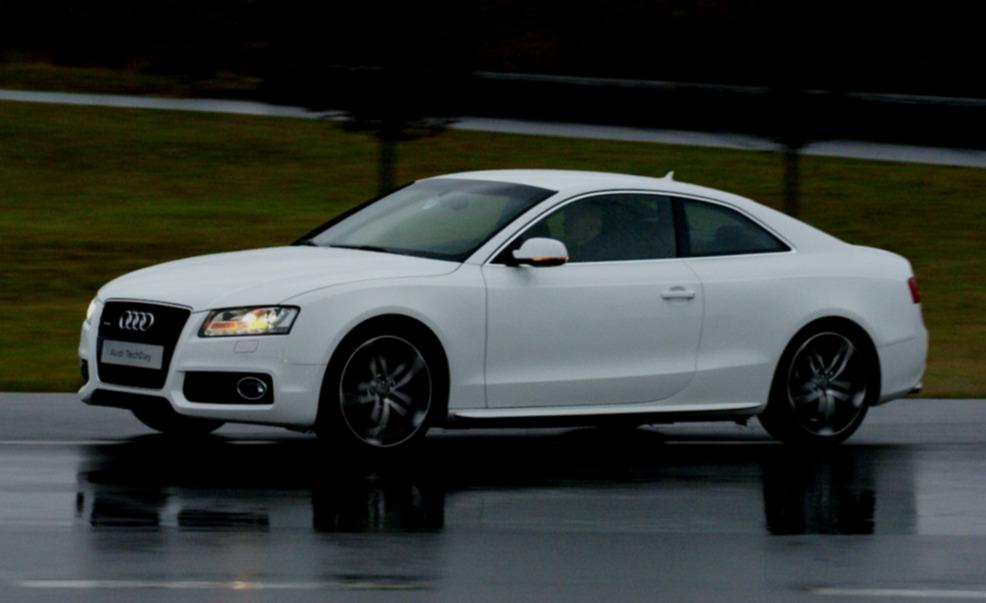Audi: (113, 305, 164, 338)
